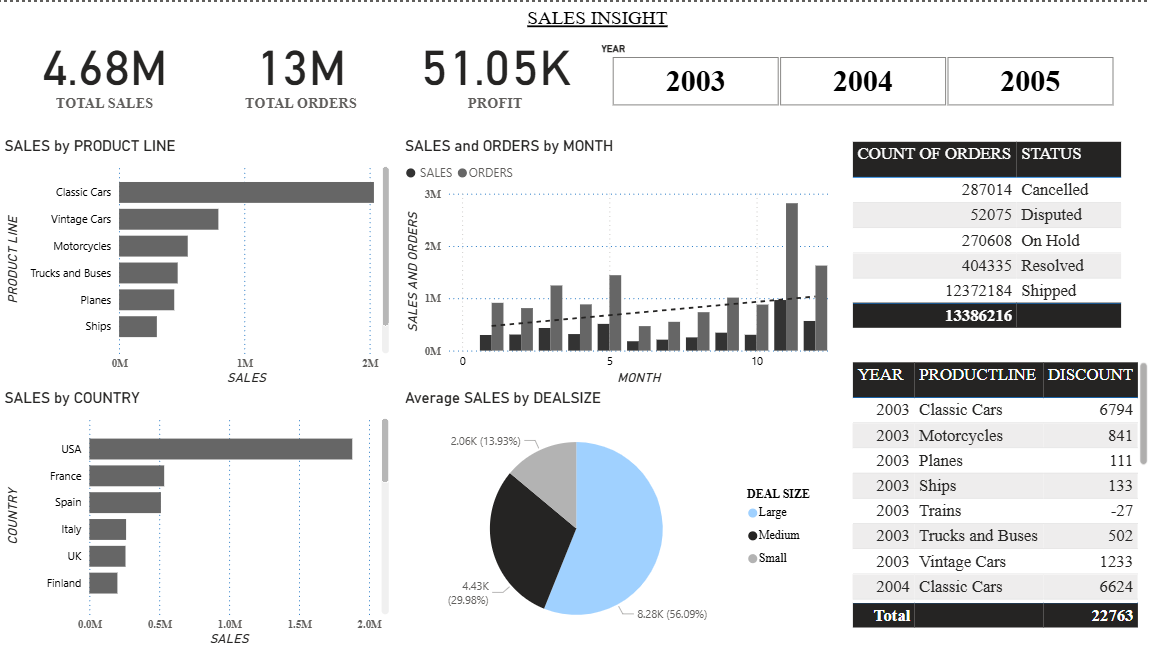

The dashboard page shown, as its layout file describes it:
{"tool":"powerbi","page":{"name":"Page 1","canvas":[1280,720],"ordinal":0},"visuals":[{"type":"card","fields":{"Values":["Sum(sales_data_sample.SALES)"]},"box":[0,0,231.7,150],"z":0},{"type":"card","fields":{"Values":["Sum(sales_data_sample.ORDERNUMBER)"]},"box":[231.7,0,205,150],"z":1000},{"type":"card","fields":{"Values":["sales_data_sample.Sum of SALES minus Sum of COST PRICE"]},"box":[445,0,210,150],"z":2000},{"type":"slicer","fields":{"Values":["sales_data_sample.YEAR_ID"]},"box":[654.3,40,605.7,81.4],"z":2001},{"type":"clusteredBarChart","fields":{"Category":["sales_data_sample.PRODUCTLINE"],"Y":["Sum(sales_data_sample.SALES)"]},"box":[0,150,437.1,280],"z":2002},{"type":"clusteredBarChart","fields":{"Y":["Sum(sales_data_sample.SALES)"],"Category":["sales_data_sample.COUNTRY"]},"box":[0,430,436.7,290],"z":2003},{"type":"clusteredColumnChart","fields":{"Category":["sales_data_sample.MONTH_ID"],"Y":["Sum(sales_data_sample.SALES)","Sum(sales_data_sample.ORDERNUMBER)"]},"box":[445,150,480,280],"z":2005},{"type":"pieChart","fields":{"Category":["sales_data_sample.DEALSIZE"],"Y":["Avg(sales_data_sample.SALES)"]},"box":[445,430,480,290],"z":2006},{"type":"tableEx","fields":{"Values":["Sum(sales_data_sample.ORDERNUMBER)","sales_data_sample.STATUS"]},"box":[941.7,150,318.3,226.7],"z":2007},{"type":"tableEx","fields":{"Values":["sales_data_sample.YEAR_ID","sales_data_sample.PRODUCTLINE","sales_data_sample.Sum of MSRP minus Sum of PRICEEACH"]},"box":[941.7,395,338.3,305],"z":2008},{"type":"textbox","box":[437.1,0,454.3,40],"z":2009}]}

Visuals, with their boxes in screenshot pixels (x1, y1, x2, y2), scaled from the page's 1280x720 canvas onto the 1151x646 screenshot:
card - Sum(sales_data_sample.SALES): BBox(0, 0, 208, 135)
card - Sum(sales_data_sample.ORDERNUMBER): BBox(208, 0, 393, 135)
card - sales_data_sample.Sum of SALES minus Sum of COST PRICE: BBox(400, 0, 589, 135)
slicer - sales_data_sample.YEAR_ID: BBox(588, 36, 1133, 109)
clusteredBarChart - sales_data_sample.PRODUCTLINE x Sum(sales_data_sample.SALES): BBox(0, 135, 393, 386)
clusteredBarChart - Sum(sales_data_sample.SALES) x sales_data_sample.COUNTRY: BBox(0, 386, 393, 645)
clusteredColumnChart - sales_data_sample.MONTH_ID x Sum(sales_data_sample.SALES): BBox(400, 135, 832, 386)
pieChart - sales_data_sample.DEALSIZE x Avg(sales_data_sample.SALES): BBox(400, 386, 832, 645)
tableEx - Sum(sales_data_sample.ORDERNUMBER) x sales_data_sample.STATUS: BBox(847, 135, 1133, 338)
tableEx - sales_data_sample.YEAR_ID x sales_data_sample.PRODUCTLINE: BBox(847, 354, 1150, 628)
textbox: BBox(393, 0, 802, 36)
